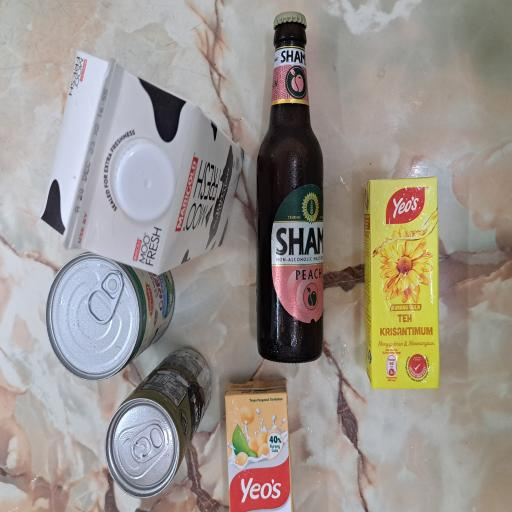can: (99, 58, 196, 232), (10, 140, 125, 285)
drink carton: (178, 53, 344, 327), (0, 297, 102, 389), (90, 483, 251, 512)
glass bottle: (113, 343, 375, 431)
plastic bottle cap: (216, 152, 281, 234)
pop tab: (141, 114, 182, 166), (36, 174, 67, 220)
